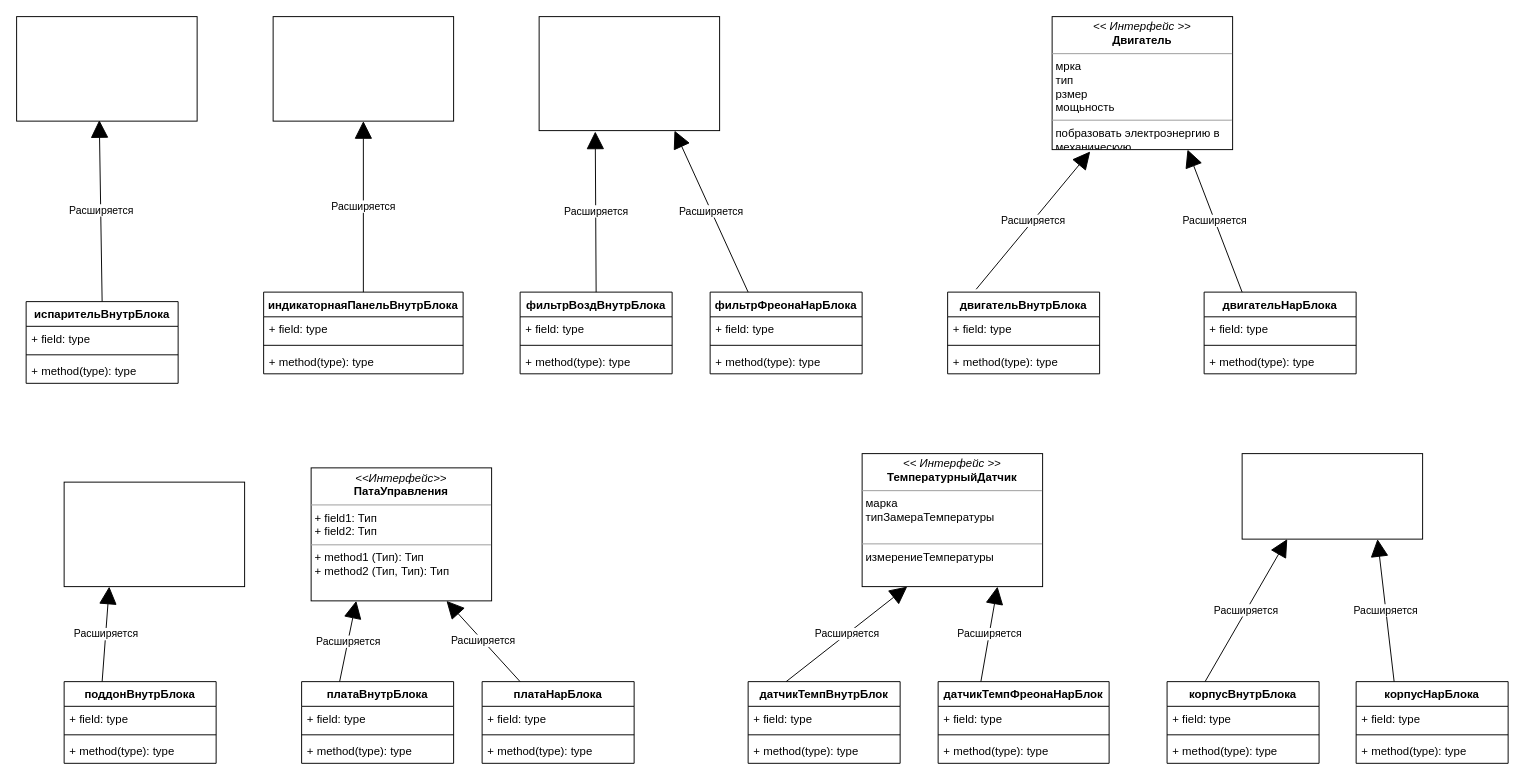
This 1525x783 diagram has some shape labels left out. The shapes that lost their labels are listed below. From the top down, each one's centre as x and y in pixels, then its label:
At (106,68): "<< Интерфейс >> Испаритель марка размеры действие над фреоном".
At (363,68): "<< Интерфейс >> Индикаторная панель марка размеры показ различных значений".
At (629,73): "<< Интерфейс >> Фильтр марка размер вид фильтрации очищать".
At (1332,496): "<<Interface>> Корпус тип материал размер".
At (154,534): "<< Интерфейс >> Поддон марка размеры собирать конденсат".
